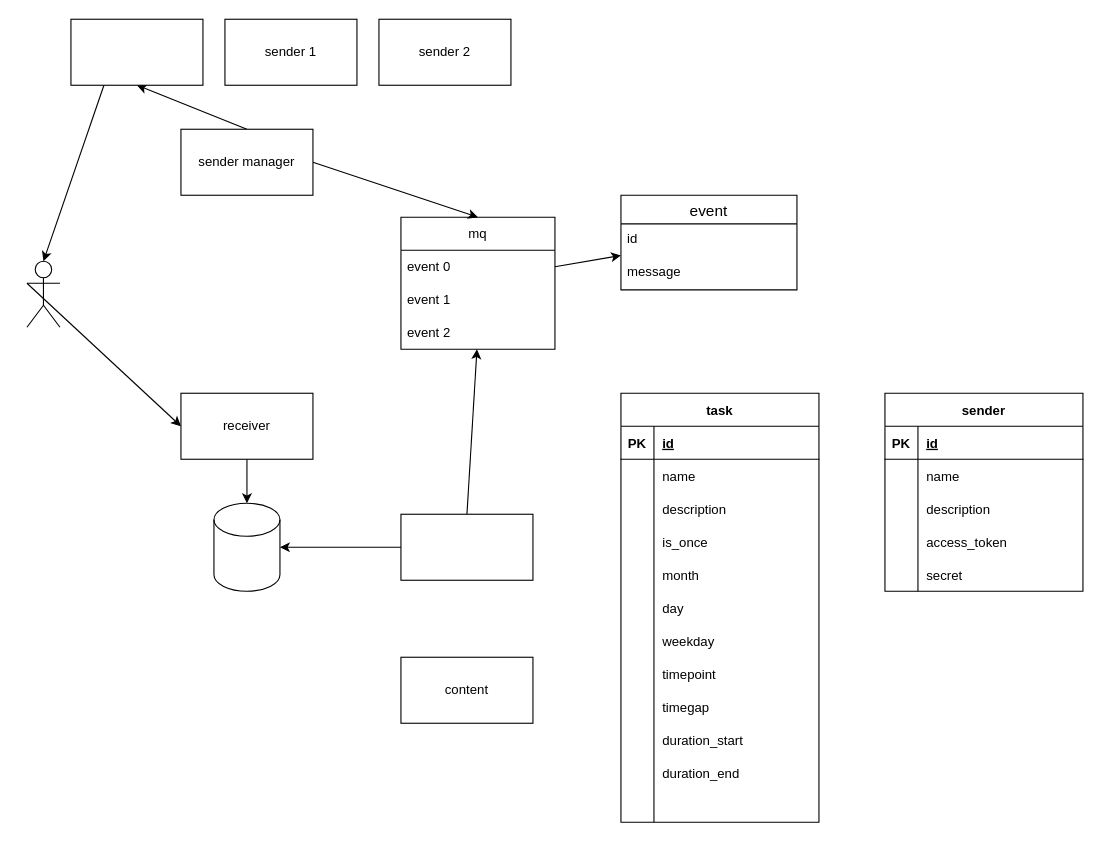
Image size: 1102x842. Some labels were removed from this diagram. The centre of each missing label's shape, as x and y in pixels:
db: point (246, 546)
scheduler: point (466, 546)
sender 0: point (136, 51)
User: point (43, 293)
